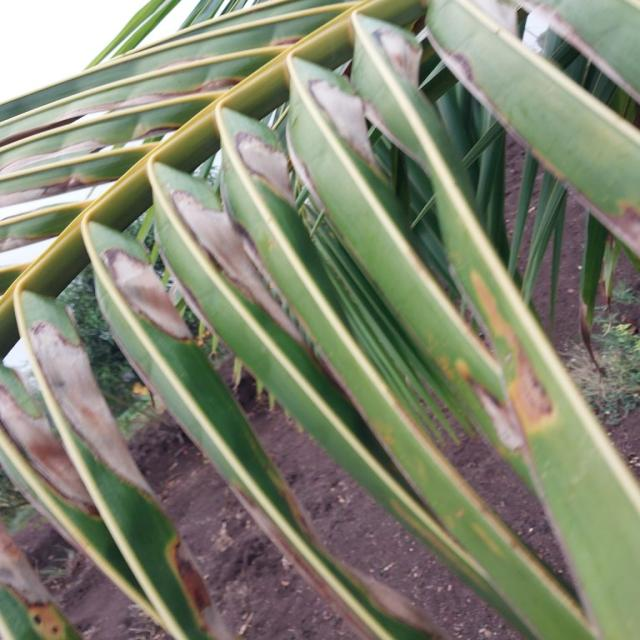gray leaf spot: (43, 0, 566, 243), (10, 267, 172, 526)
